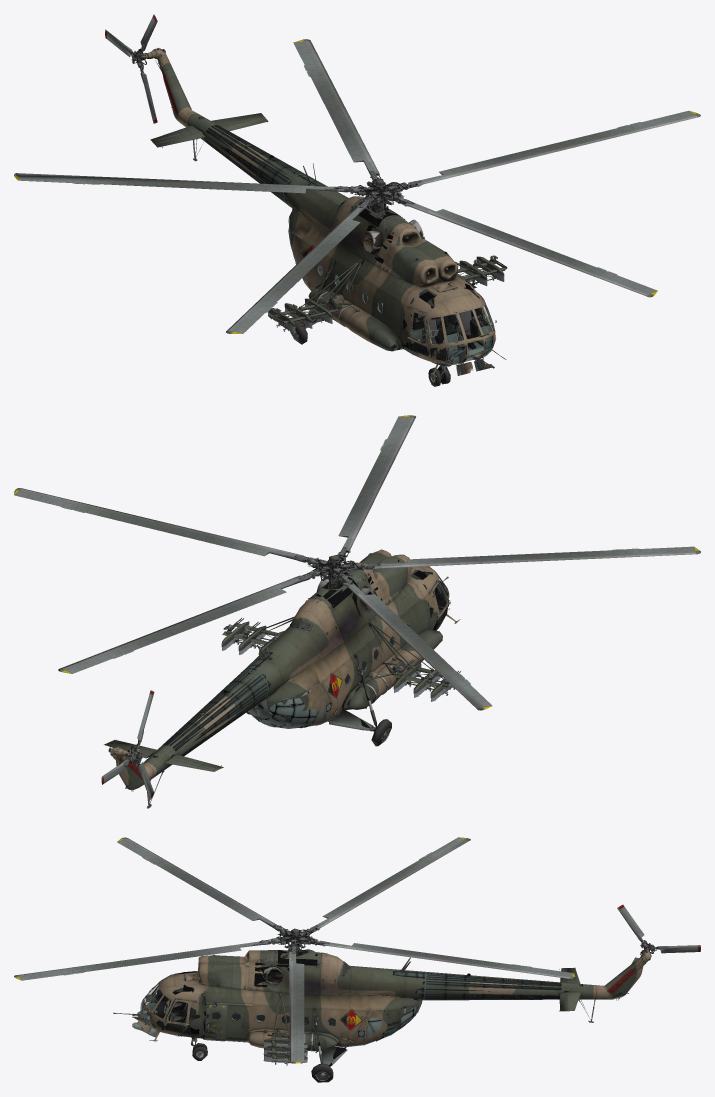
3 views of the same model, one above another, from view 1: azimuth 30°, elevation 25°; view 2: azimuth 150°, elevation 25°; view 3: azimuth 270°, elevation 25° (orthographic). The views are drawn at different scales.
Visible parts, largest first — view 1: Object_2, Object_13, Object_8, Object_27, Object_28; view 2: Object_2, Object_27, Object_13; view 3: Object_2, Object_27, Object_13, Object_8.
Part boxes in pixels (left/top/right/bottom): Object_2: left=14, top=14, right=700, bottom=386; Object_13: left=288, top=212, right=494, bottom=363; Object_8: left=14, top=174, right=494, bottom=363; Object_27: left=155, top=115, right=324, bottom=206; Object_28: left=268, top=261, right=504, bottom=332; Object_2: left=14, top=415, right=700, bottom=808; Object_27: left=108, top=652, right=272, bottom=769; Object_13: left=249, top=569, right=449, bottom=728; Object_2: left=14, top=837, right=700, bottom=1082; Object_27: left=393, top=971, right=576, bottom=1000; Object_13: left=140, top=971, right=421, bottom=1041; Object_8: left=140, top=984, right=335, bottom=1025.
Size of the model in its own units: 19.31 by 5.81 by 24.79.
14 materials, 10 textured.
